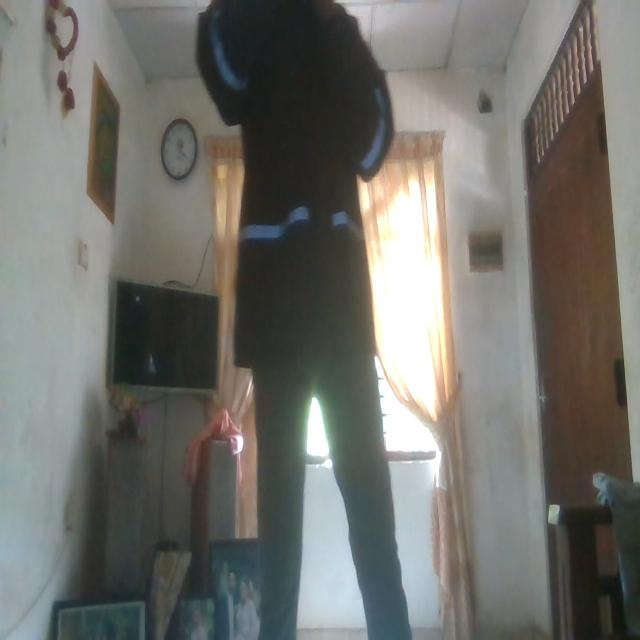Jacket_Wearer: (201, 0, 390, 363)
Person: (194, 0, 416, 640)
